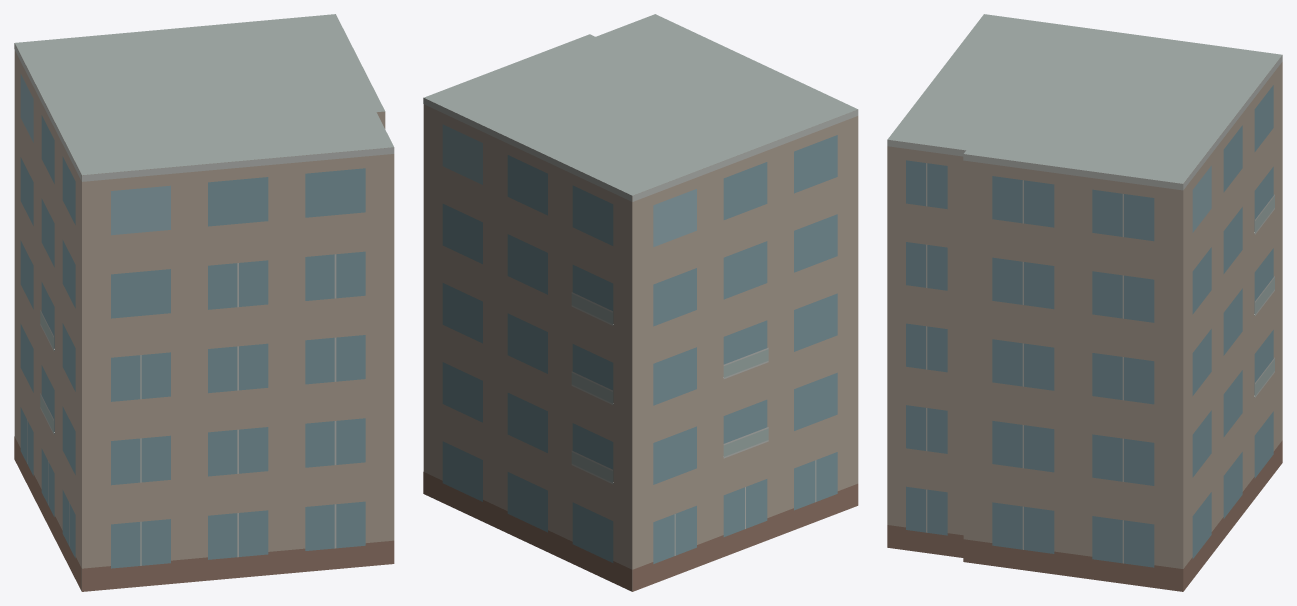
File: survey-upis-32789323.glb
The picture shows the model from 3 angles, left to right: view 1: azimuth 30°, elevation 25°; view 2: azimuth 150°, elevation 25°; view 3: azimuth 270°, elevation 25°; orthographic projection. The views are drawn at different scales.
Visible parts, largest first — view 1: survey-upis-32789323.tmp; view 2: survey-upis-32789323.tmp; view 3: survey-upis-32789323.tmp.
Part boxes in pixels (x1,y1,x2,y2): survey-upis-32789323.tmp: (14,14,394,591); survey-upis-32789323.tmp: (423,14,858,591); survey-upis-32789323.tmp: (887,14,1282,591).
Bounding box in the file's own units: 13.63 × 15.25 × 13.4.
